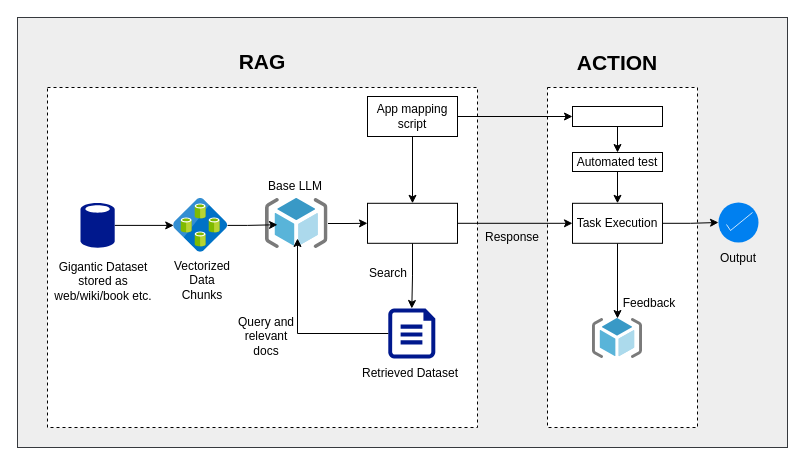
This 805x465 diagram has some shape labels left out. Here are the shapes that lost their labels. From the top down, the centre of each, then its label:
At (617,116): "App".
At (412,222): "Query Engine".
